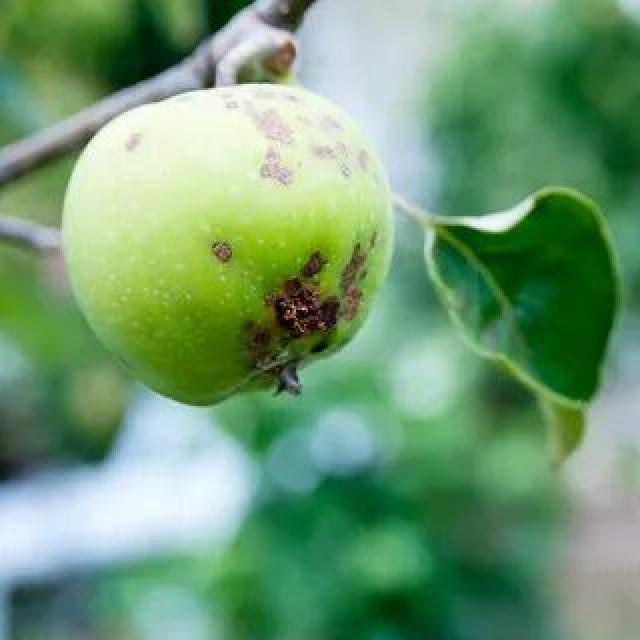Rotten: (73, 90, 370, 392)
